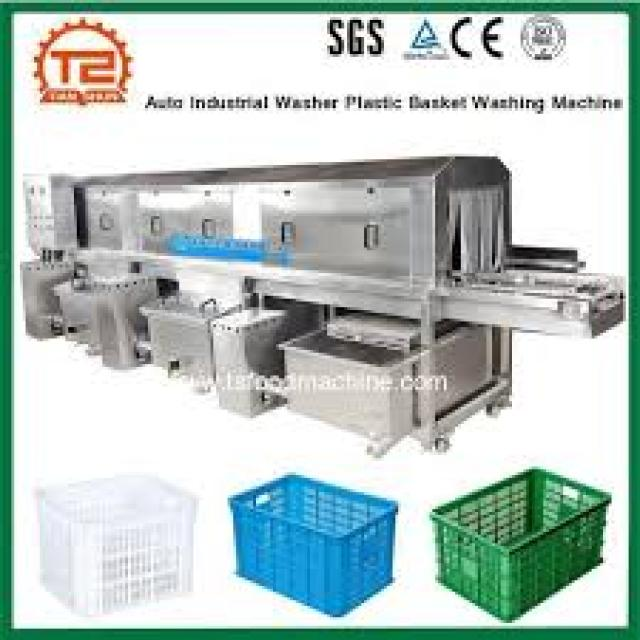basket: (408, 427, 639, 640), (209, 460, 414, 632), (39, 475, 203, 619)
